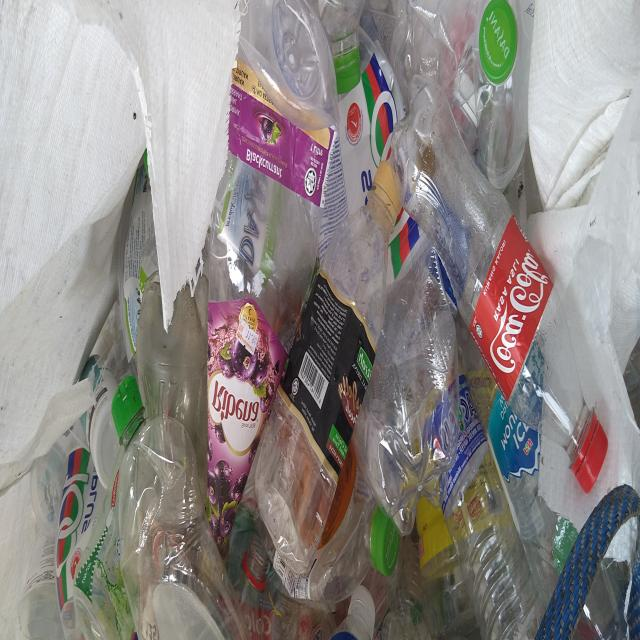plastic: (398, 83, 605, 473), (203, 0, 336, 554), (255, 139, 402, 595), (321, 0, 451, 502), (424, 344, 542, 640), (113, 376, 238, 640), (455, 4, 531, 175)
